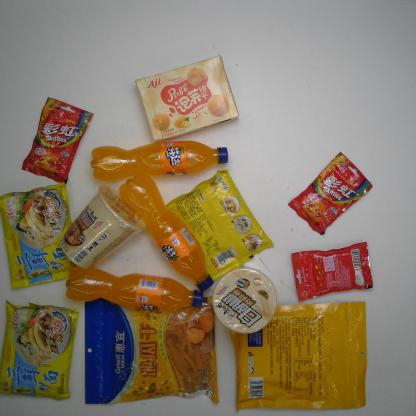Candy: (286, 149, 374, 237), (18, 93, 96, 187), (290, 241, 374, 302)
Dessert: (130, 52, 245, 146)
Dried Fruit: (79, 292, 222, 408), (227, 300, 370, 414)
Drink: (116, 171, 217, 293), (63, 263, 206, 313), (90, 139, 230, 182)
Instant Noodles: (164, 166, 276, 283), (1, 180, 78, 291), (0, 296, 80, 402), (59, 182, 150, 269), (209, 262, 280, 340)
